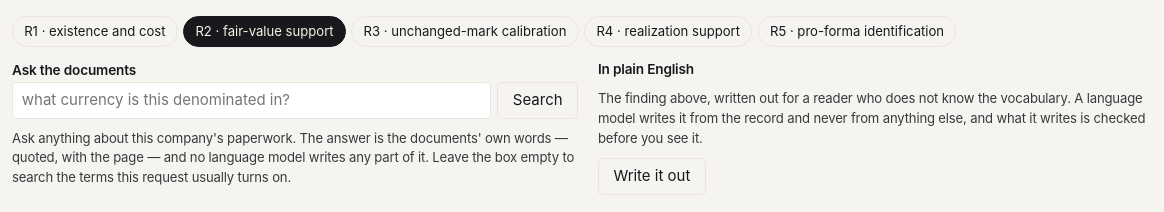
Test: the plain-English window › renders the refusal in the guard's own words
Click the button "Write it out".
click(652, 177)  # box [598, 158, 706, 195]
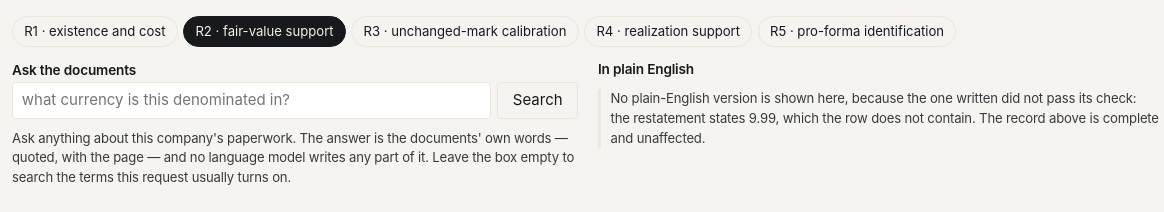
Result: the text "did not pass its check" is shown at [611, 90, 1136, 106]
Result: the text "9.99" is shown at [611, 110, 976, 126]
Result: the text "complete and unaffected" is shown at [611, 110, 1159, 146]
